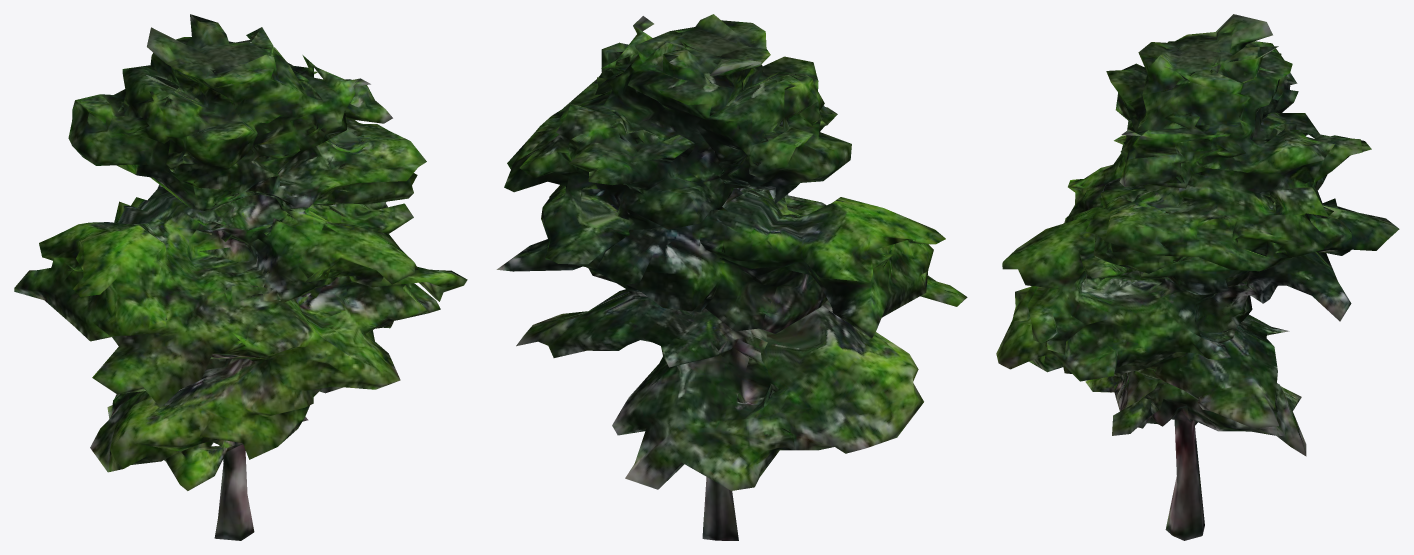
The model's file is 34b9262b68e2_Bight_gree__short_n.fbx.
3 renders of one model, left to right at view 1: azimuth 30°, elevation 25°; view 2: azimuth 150°, elevation 25°; view 3: azimuth 270°, elevation 25°, orthographic. The views are drawn at different scales.
Parts seen in each view (by area): view 1: mesh; view 2: mesh; view 3: mesh.
Part boxes in pixels (bbox=[...]): mesh: bbox=[14, 14, 467, 540]; mesh: bbox=[496, 14, 967, 540]; mesh: bbox=[996, 14, 1399, 540].
Bounding box in the file's own units: 75.19 × 99.54 × 74.27.
